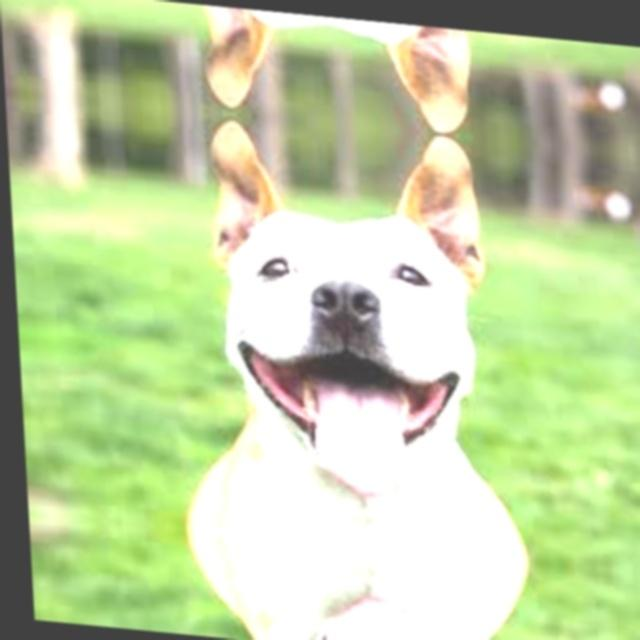dog: (166, 107, 576, 567), (160, 0, 552, 144), (189, 529, 582, 640)
